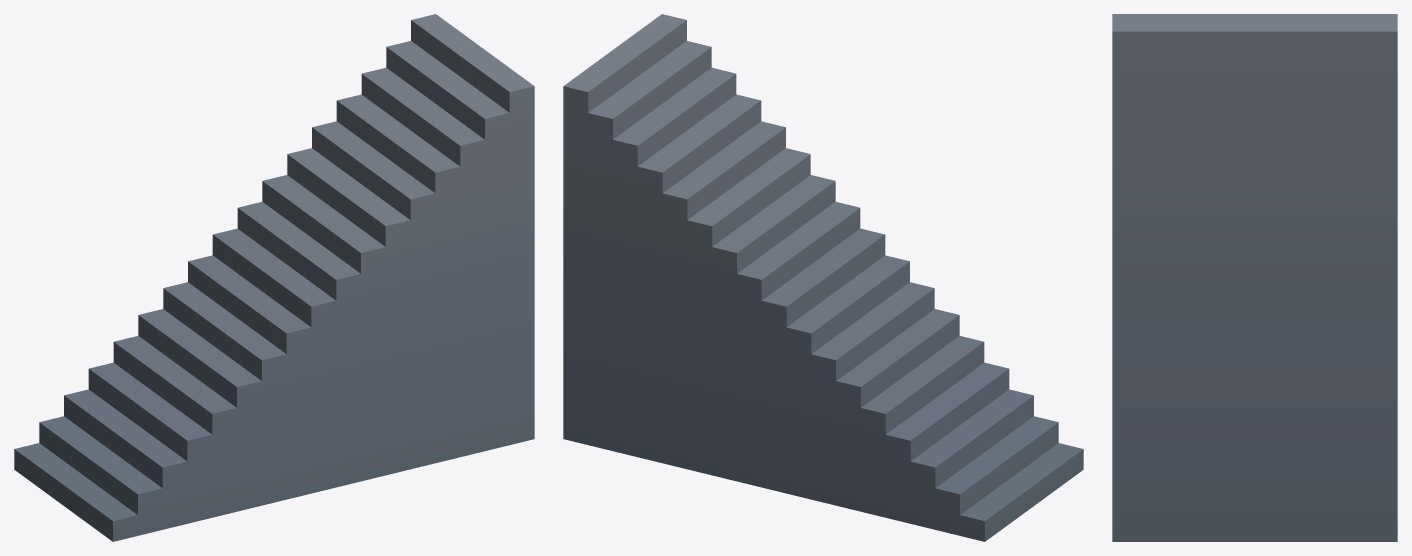
The model's file is Stairs_C_1_4.fbx.
3 views of the same model, side by side, from view 1: azimuth 30°, elevation 25°; view 2: azimuth 150°, elevation 25°; view 3: azimuth 270°, elevation 25° (orthographic). The views are drawn at different scales.
Visible parts, largest first — view 1: Stairs_C_1_4; view 2: Stairs_C_1_4; view 3: Stairs_C_1_4.
Boxes of the visible parts, x1,y1,x2,y2 form: Stairs_C_1_4: (14, 14, 534, 541); Stairs_C_1_4: (563, 14, 1083, 541); Stairs_C_1_4: (1112, 14, 1397, 541).
Bounding box in the file's own units: 340 × 272 × 138.
